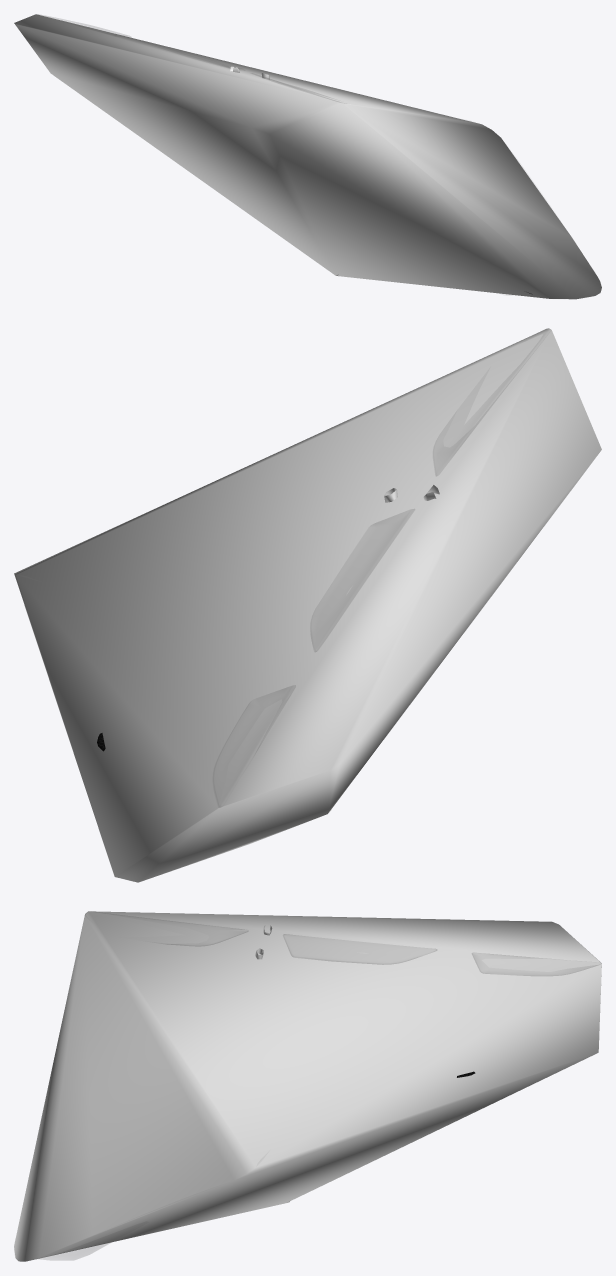
3 views of the same model, one above another, from view 1: azimuth 30°, elevation 25°; view 2: azimuth 150°, elevation 25°; view 3: azimuth 270°, elevation 25° (orthographic). The views are drawn at different scales.
Parts seen in each view (by area): view 1: grille_eclipse_tail_r_1_01_col, grille_eclipse_tail_r_1_01; view 2: grille_eclipse_tail_r_1_01_col, grille_eclipse_tail_r_1_01; view 3: grille_eclipse_tail_r_1_01_col, grille_eclipse_tail_r_1_01.
Part boxes in pixels (box(x1,y1,x2,y2)): grille_eclipse_tail_r_1_01_col: box(14, 14, 601, 299); grille_eclipse_tail_r_1_01: box(38, 14, 532, 294); grille_eclipse_tail_r_1_01_col: box(14, 328, 601, 882); grille_eclipse_tail_r_1_01: box(97, 329, 545, 812); grille_eclipse_tail_r_1_01_col: box(14, 911, 601, 1261); grille_eclipse_tail_r_1_01: box(40, 912, 599, 1260).
Bounding box in the file's own units: 0.5595 × 0.3819 × 0.8053.
6 materials, 6 textured.
